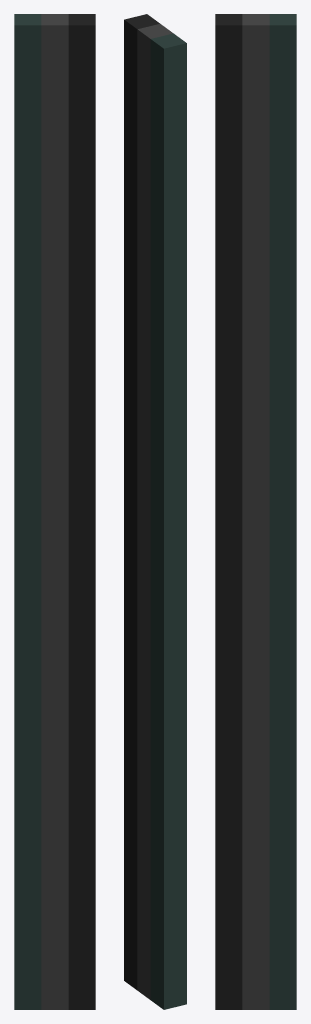
File: Wire.obj
3 views of the same model, side by side, from view 1: azimuth 90°, elevation 25°; view 2: azimuth 210°, elevation 25°; view 3: azimuth 270°, elevation 25° (orthographic). The views are drawn at different scales.
Size of the model in its own units: 0.1 by 4 by 0.3.
1 material, 1 textured.
